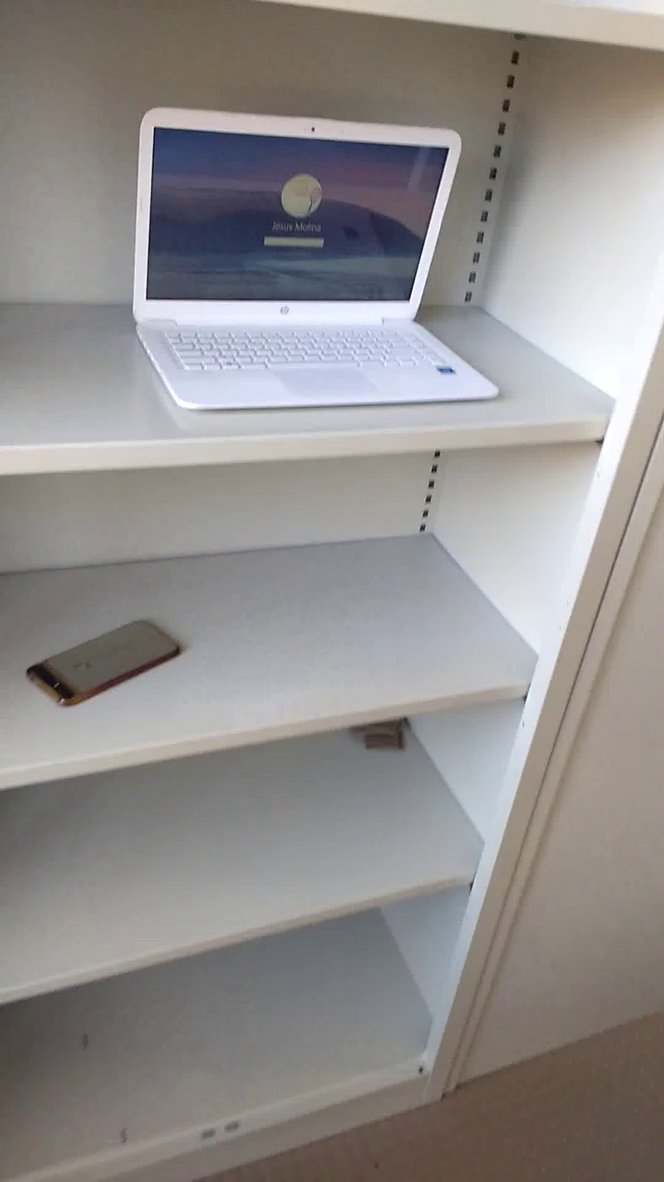laptop: (123, 95, 512, 448)
phone: (20, 609, 194, 714)
